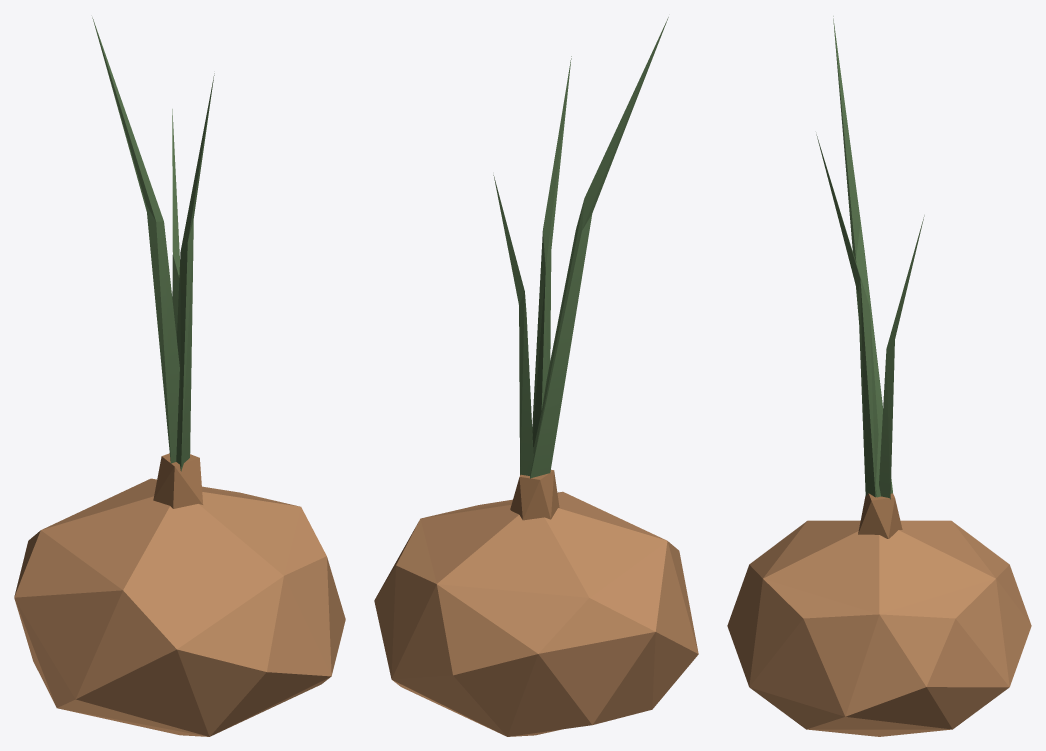
Rendered from SM_Food_Onion_01.fbx.
3 views of the same model, side by side, from view 1: azimuth 30°, elevation 25°; view 2: azimuth 150°, elevation 25°; view 3: azimuth 270°, elevation 25° (orthographic). The views are drawn at different scales.
Visible parts, largest first — view 1: SM_Food_Onion_01; view 2: SM_Food_Onion_01; view 3: SM_Food_Onion_01.
Part boxes in pixels (bbox=[...]): SM_Food_Onion_01: bbox=[14, 17, 345, 736]; SM_Food_Onion_01: bbox=[374, 17, 698, 736]; SM_Food_Onion_01: bbox=[727, 16, 1031, 736].
Size of the model in its own units: 0.1312 by 0.3293 by 0.1348.
